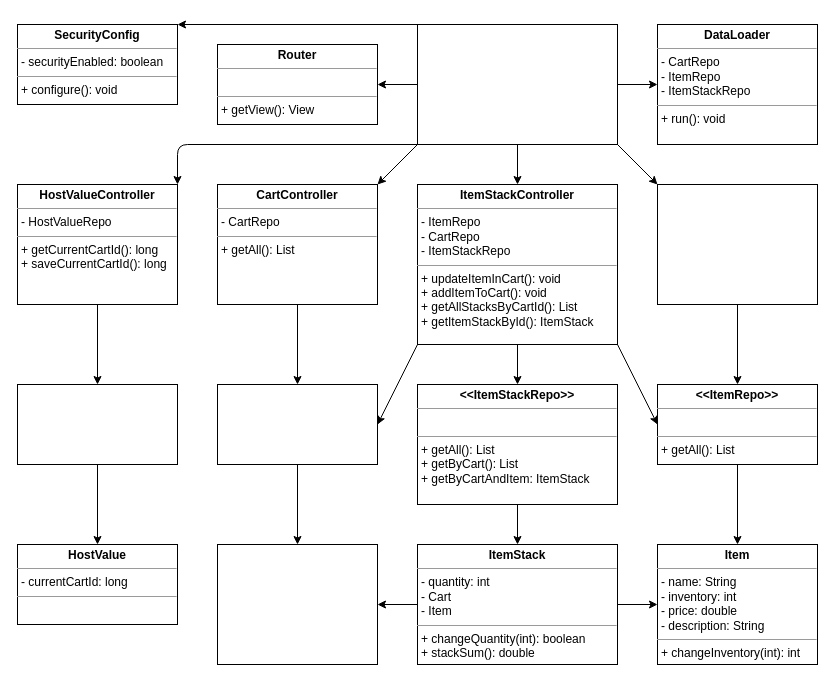
This 835x682 diagram has some shape labels left out. Each missing label, with the centre of its shape:
"<<CartRepo>> + getAll(): List" belongs at [297,424].
"<<HostValueRepo>> + getCurrentCartId(): List" belongs at [97,424].
"Cart - label: String - totalQuantity: int - sum: double + getter + setter" belongs at [297,604].
"CartApplication + main(): void" belongs at [517,84].
"ItemController - ItemRepo + getAll(): List" belongs at [737,244].
